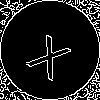X: (25, 25, 79, 82)
